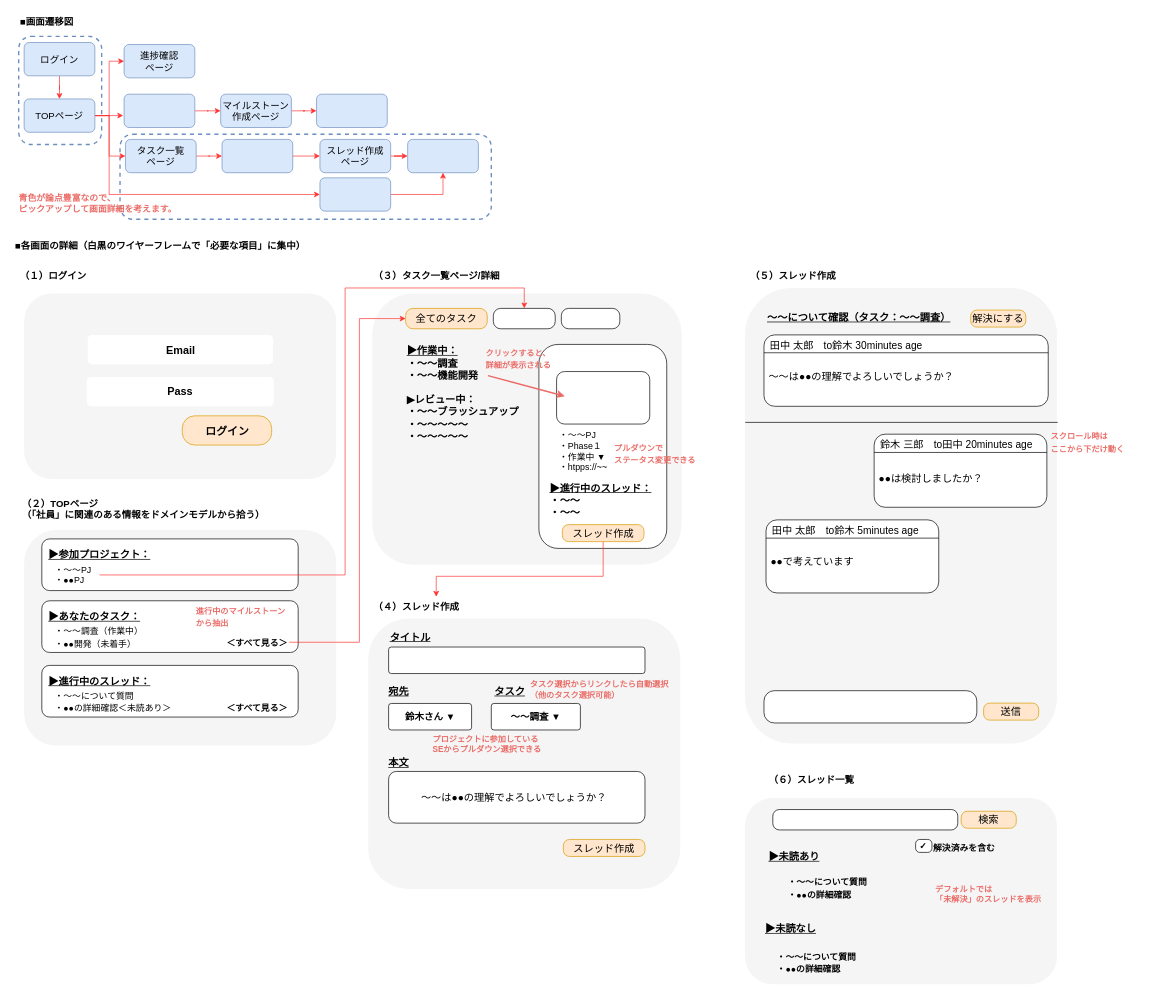
Image size: 1158x996. Some labels were removed from this diagram. The shapes that lost their labels are listed below. From the top down, each one's box as (x1, y1, x2, y2) in pixels, then its label:
(123, 94, 195, 128): プロジェクト 作成ページ
(316, 94, 387, 128): タスク 作成ページ
(221, 139, 293, 173): タスク詳細 ページ
(407, 139, 478, 173): スレッド
(319, 177, 391, 211): スレッド一覧 ページ
(493, 308, 555, 329): ～～PJ
(561, 308, 620, 329): ●●PJ
(556, 371, 650, 424): 【～～調査】 ～～～～～～～～ ～～～詳細～～～ ～～～～～～～～
(388, 646, 645, 674): ～～について確認
